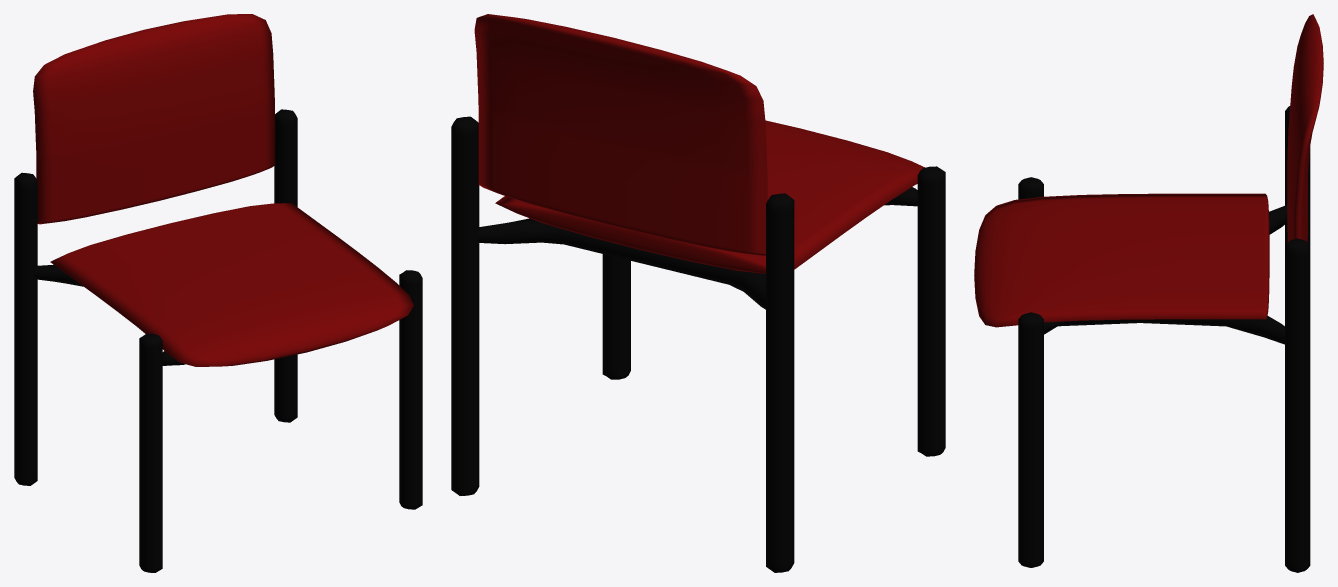
File: chair.fbx
3 renders of one model, left to right at view 1: azimuth 30°, elevation 25°; view 2: azimuth 150°, elevation 25°; view 3: azimuth 270°, elevation 25°, orthographic. The views are drawn at different scales.
Visible parts, largest first — view 1: chair; view 2: chair; view 3: chair.
Part boxes in pixels (box(x1,y1,x2,y2)): chair: box(14, 14, 422, 572); chair: box(451, 14, 945, 572); chair: box(974, 14, 1323, 572).
Size of the model in its own units: 214 by 218 by 304.
